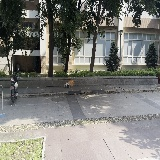fire: (67, 80, 74, 86)
